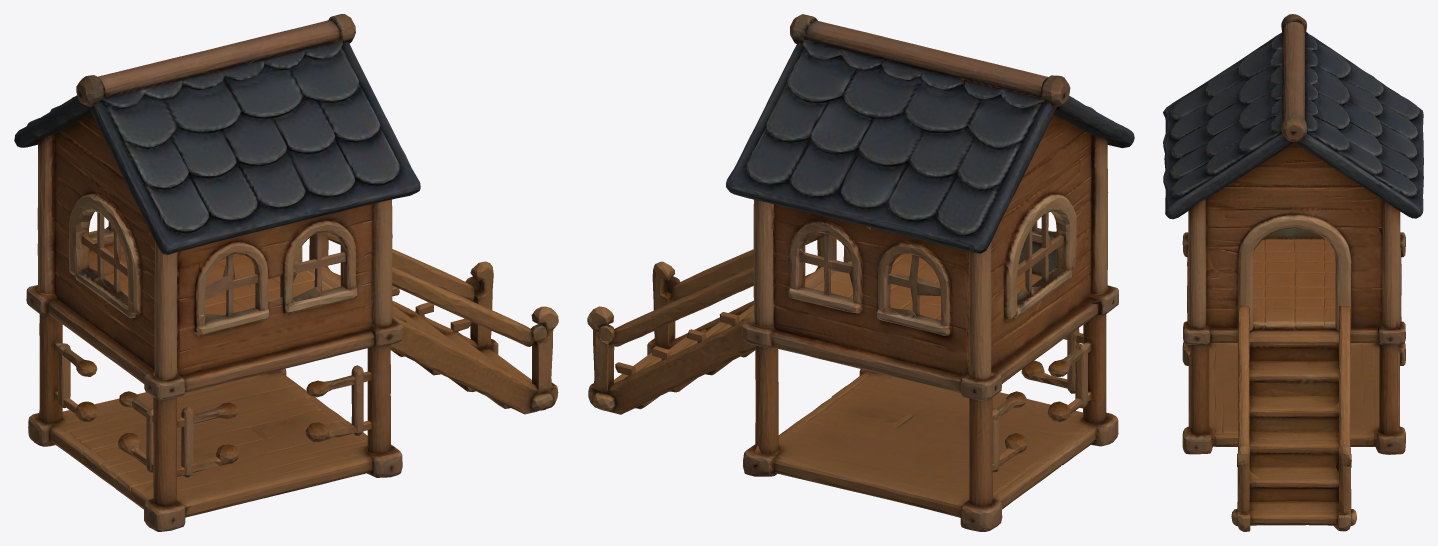
File: DOM_budka_2__normal.glb
The picture shows the model from 3 angles, left to right: view 1: azimuth 30°, elevation 25°; view 2: azimuth 150°, elevation 25°; view 3: azimuth 270°, elevation 25°; orthographic projection. The views are drawn at different scales.
Parts seen in each view (by area): view 1: tripo_node_799fc5fe-fd42-4941-ab3e-a43227daa05e; view 2: tripo_node_799fc5fe-fd42-4941-ab3e-a43227daa05e; view 3: tripo_node_799fc5fe-fd42-4941-ab3e-a43227daa05e.
Part boxes in pixels (<box>): tripo_node_799fc5fe-fd42-4941-ab3e-a43227daa05e: <box>14,14,558,531</box>; tripo_node_799fc5fe-fd42-4941-ab3e-a43227daa05e: <box>587,14,1134,531</box>; tripo_node_799fc5fe-fd42-4941-ab3e-a43227daa05e: <box>1163,14,1423,531</box>.
Bounding box in the file's own units: 1 × 0.8851 × 0.6112.
1 material, 1 textured.
